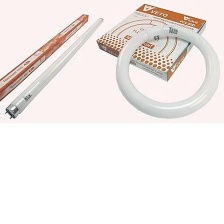book: (94, 0, 212, 86), (0, 11, 91, 103)
light_bulb: (1, 14, 105, 124), (112, 22, 224, 122)
